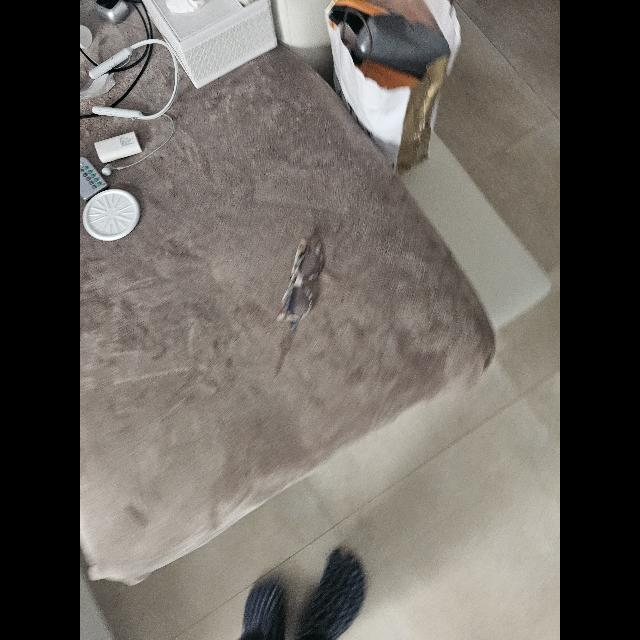glasses: (278, 239, 324, 329)
